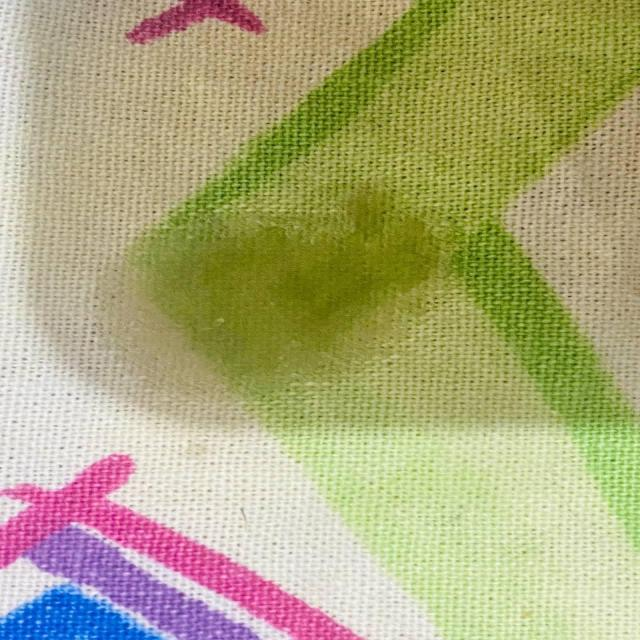stain: (98, 180, 427, 416)
